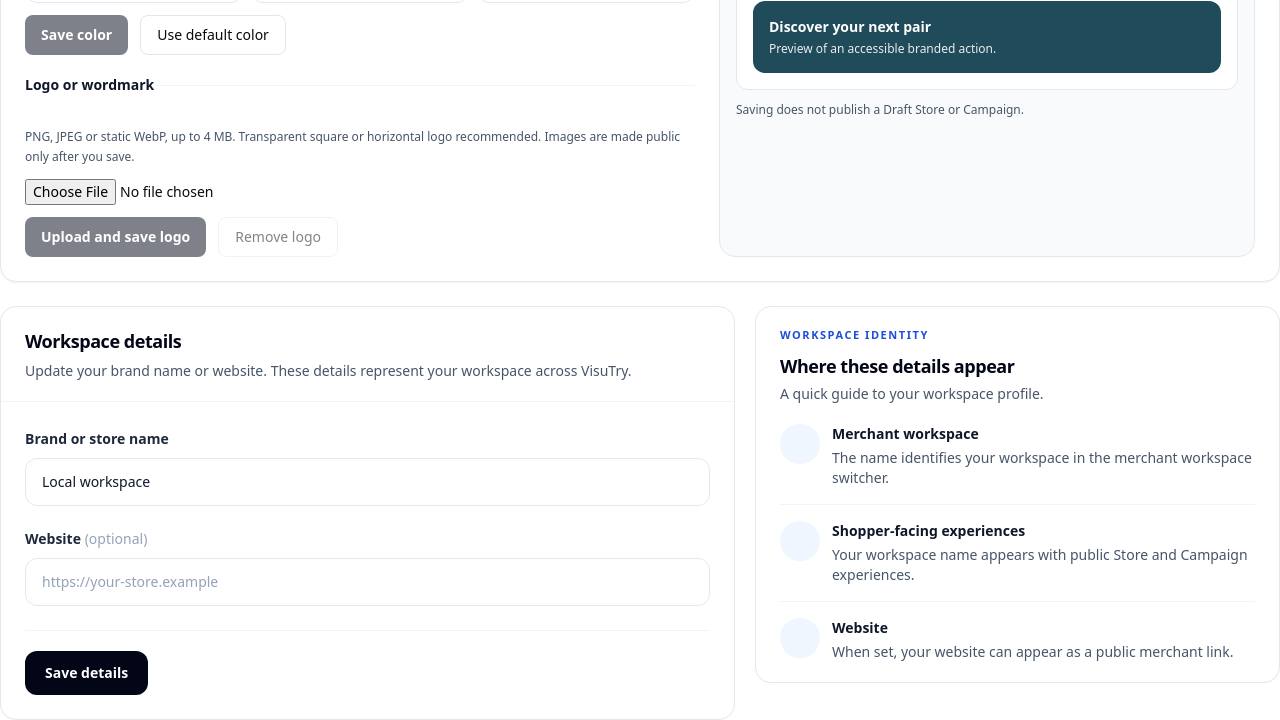
Scenario: MerchantWorkspaceSettings › clears the saving state after a network error
(page scrolled)
Click the button "Save details": (87, 673) [25,651,148,695]
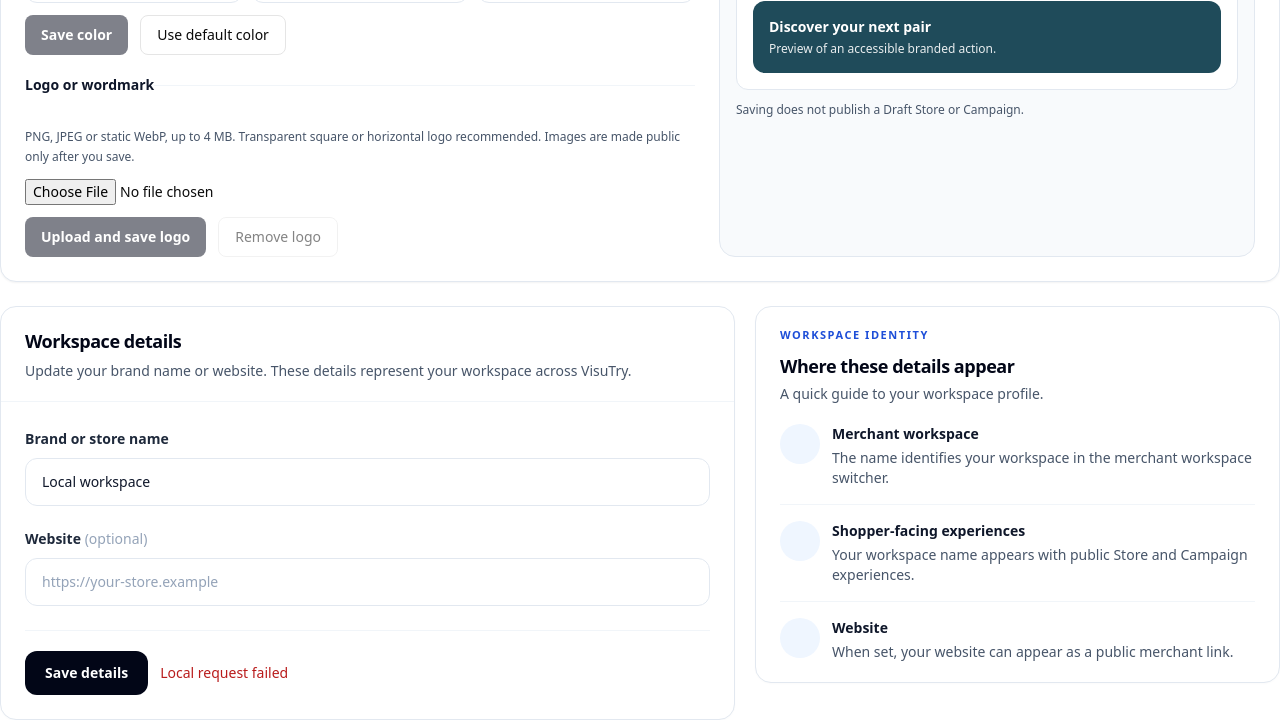
Expected: the field labelled "Brand or store name" holds "Local workspace", [25,458,710,506]
Result: the message reads "Local request failed" at [160,663,288,682]
